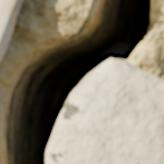brick: (47, 60, 163, 163), (0, 0, 22, 62)
crack: (0, 0, 161, 163)
